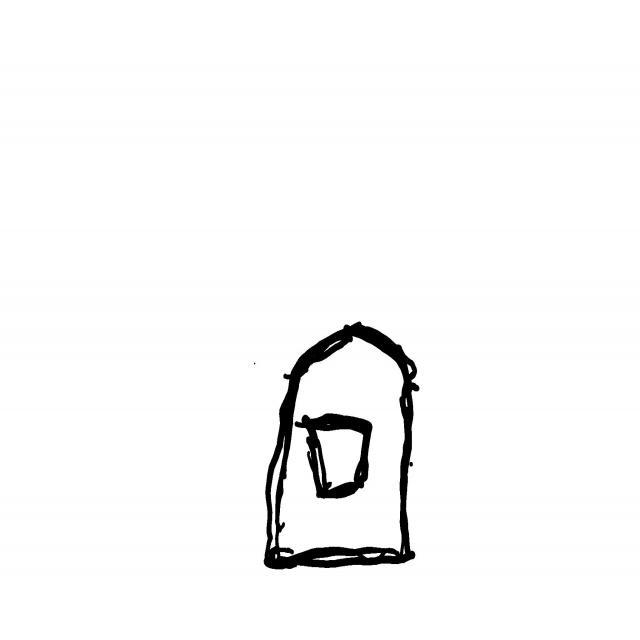house: (265, 323, 420, 570)
wall: (281, 367, 411, 574)
window: (295, 414, 373, 498)
